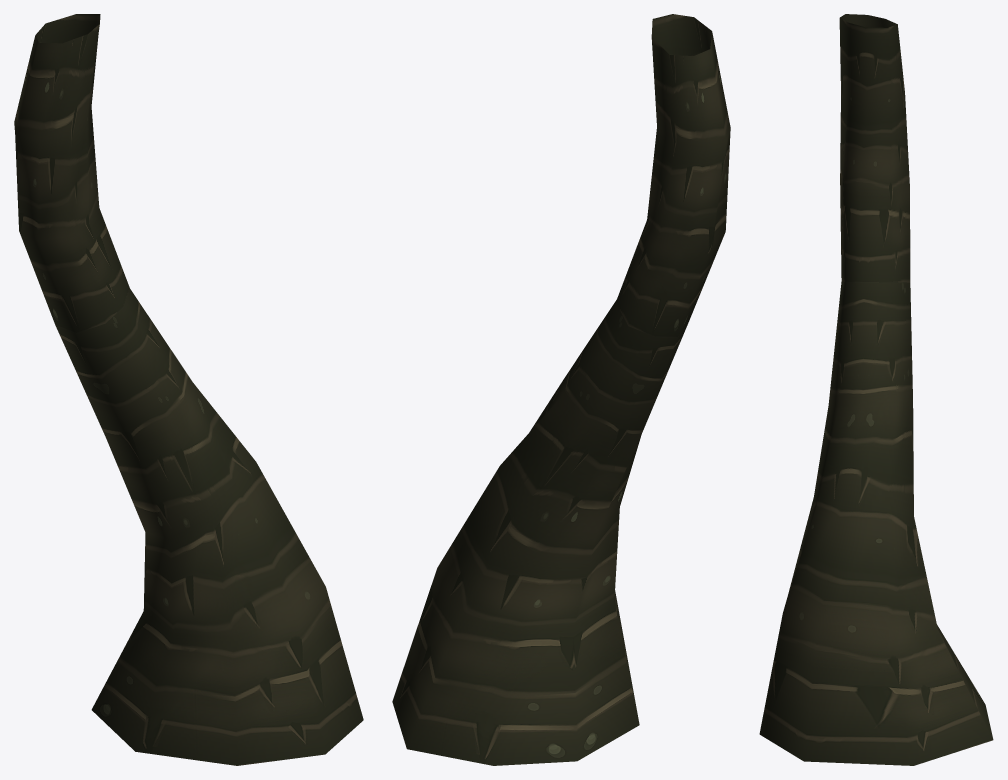
File: Palm_Trunk_09.fbx
The picture shows the model from 3 angles, left to right: view 1: azimuth 30°, elevation 25°; view 2: azimuth 150°, elevation 25°; view 3: azimuth 270°, elevation 25°; orthographic projection. The views are drawn at different scales.
Visible parts, largest first — view 1: Palm_Trunk_09; view 2: Palm_Trunk_09; view 3: Palm_Trunk_09.
Boxes of the visible parts, left/top/right/bottom form: Palm_Trunk_09: left=14, top=14, right=363, bottom=765; Palm_Trunk_09: left=392, top=14, right=730, bottom=765; Palm_Trunk_09: left=759, top=14, right=993, bottom=765.
Bounding box in the file's own units: 4.23 × 9.34 × 3.11.
Materials: 1 (1 with a texture image).
